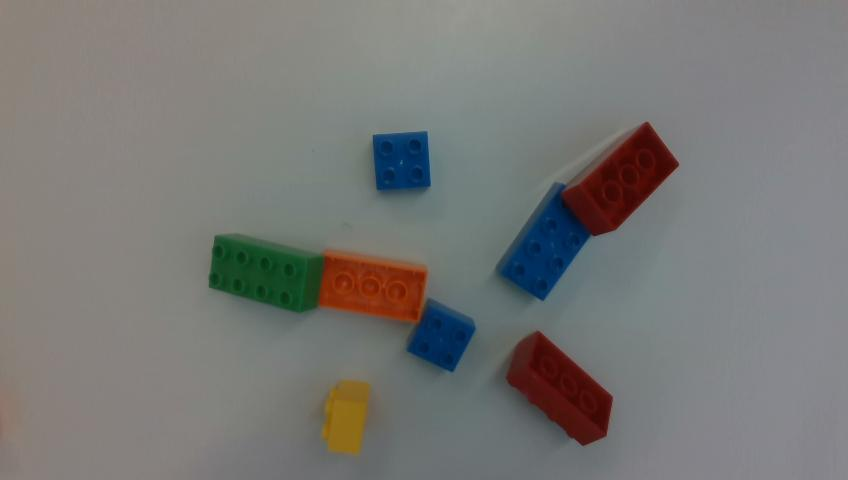2x2_blue: (407, 299, 475, 371), (373, 131, 430, 190)
2x2_yellow: (321, 380, 370, 453)
4x2_blue: (498, 184, 589, 298)
4x2_green: (210, 234, 323, 312)
4x2_orange: (319, 249, 427, 321)
4x2_red: (562, 123, 678, 235), (507, 332, 611, 444)
